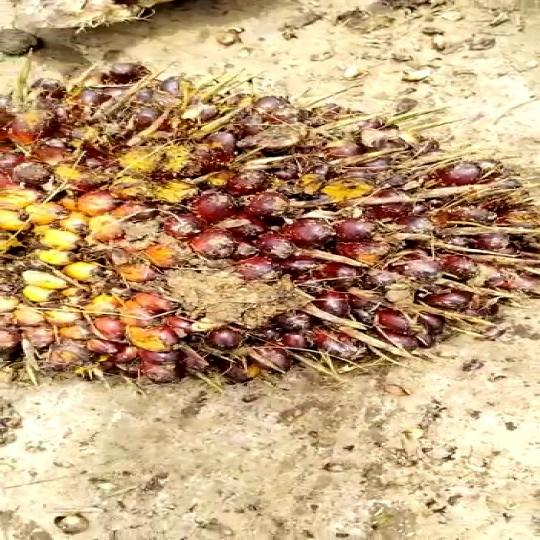masak: (0, 73, 540, 399)
